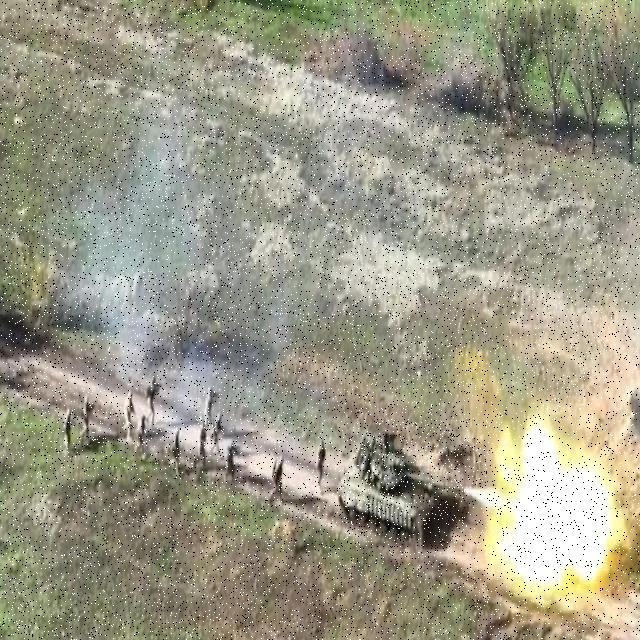MIL_MBT: (339, 421, 464, 547)
